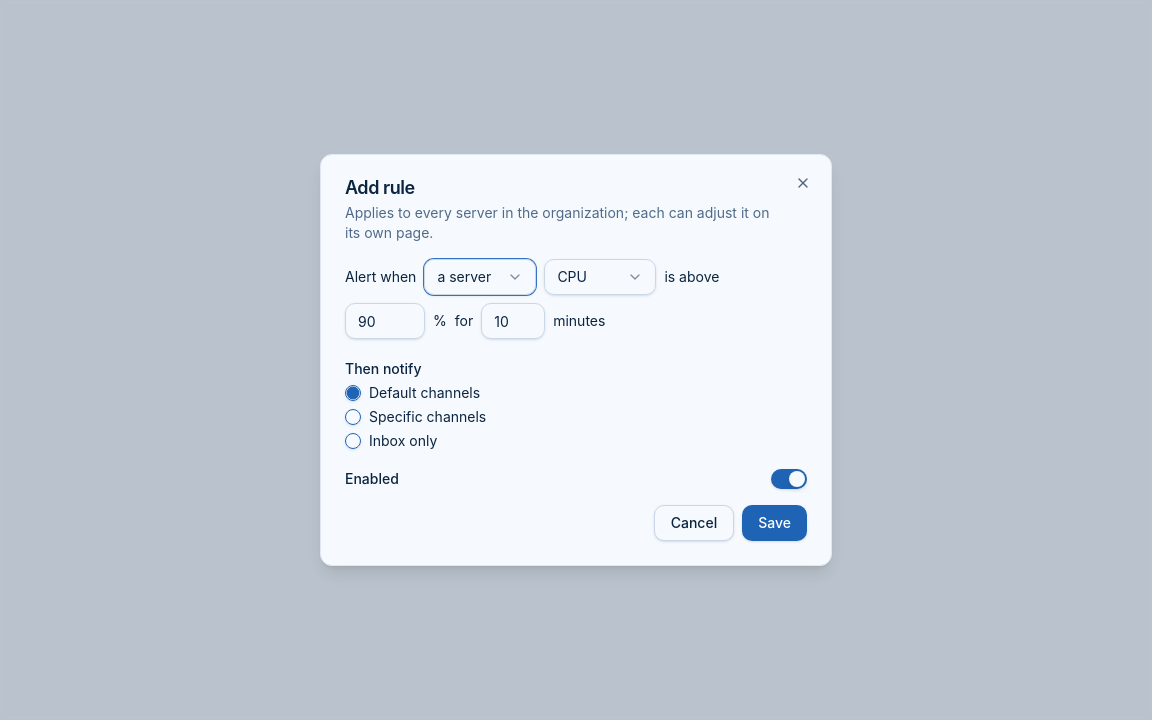
RuleDialog › has no threshold for down rules and checks the duration
Click the dropdown named "Metric" at (600, 277), box [544,259,656,295]
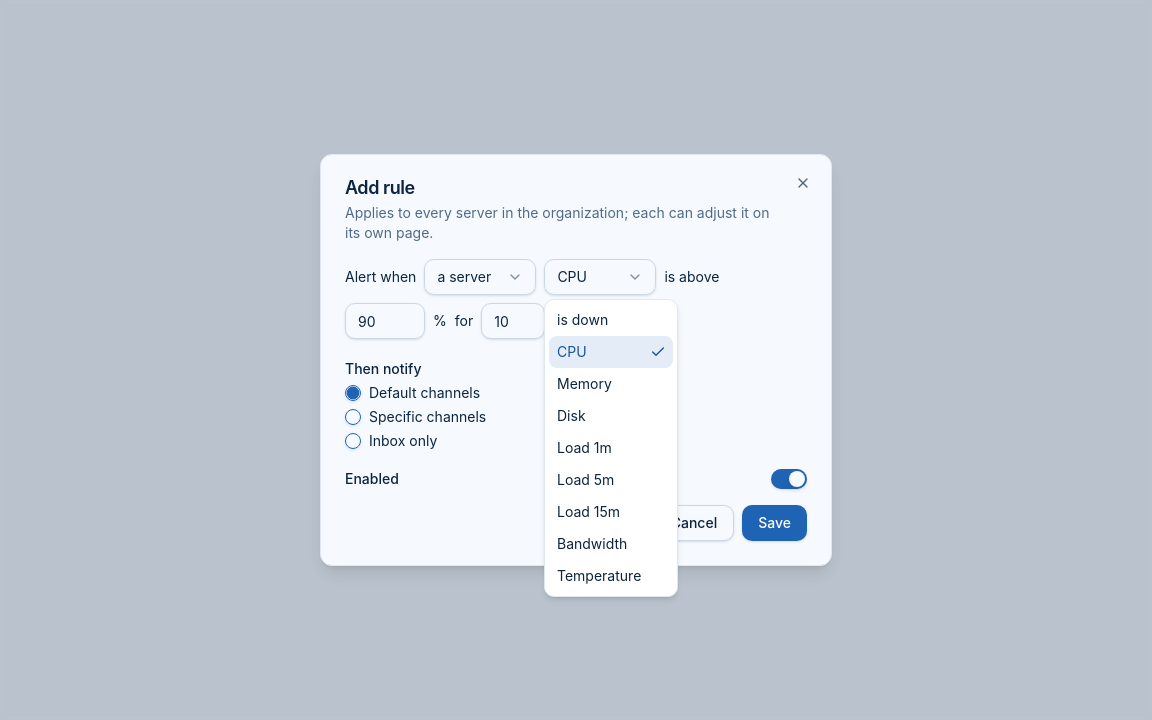
Click the option "is down" at (583, 320), box [557,311,608,328]
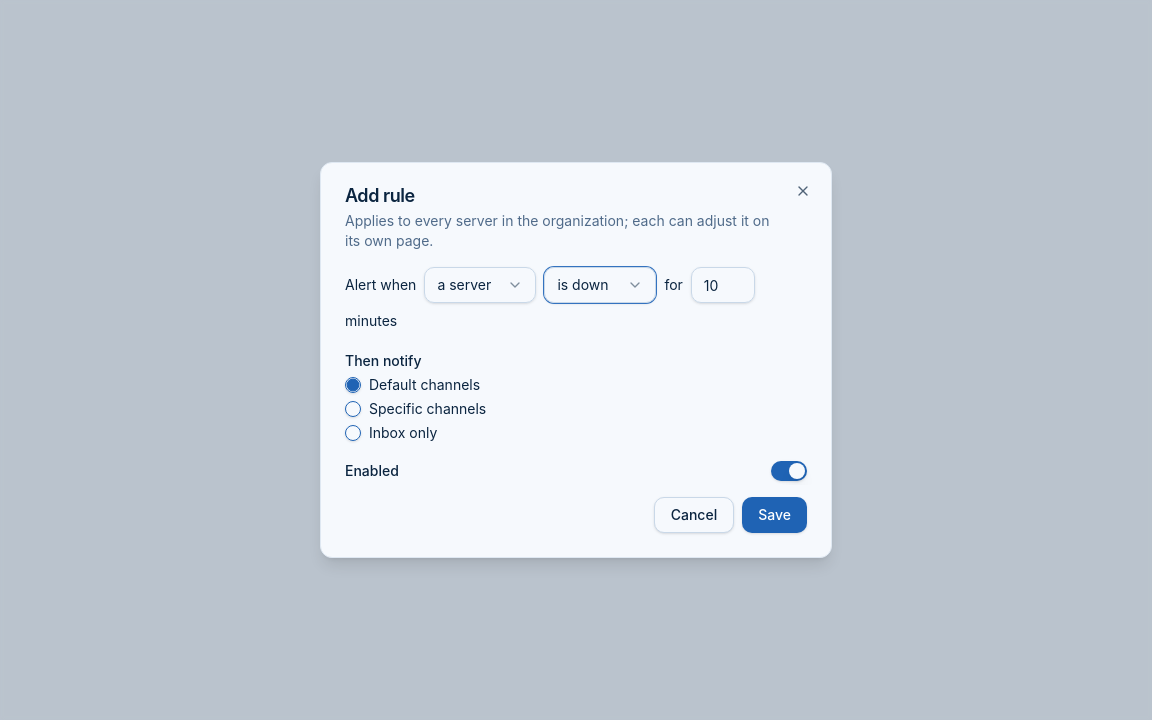
Now the text labelled "above" is gone
Replace the text in the number field named "For (minutes)" with "90" at (723, 285), box [691,267,755,303]
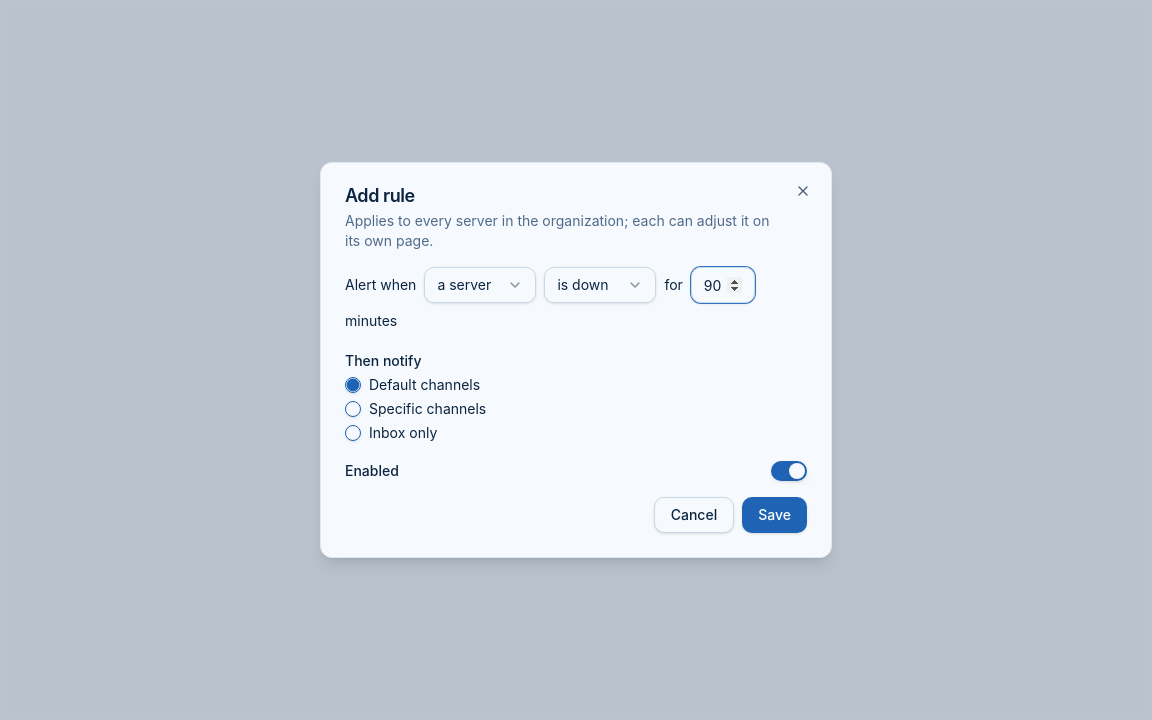
Click the button "Save" at (775, 515), box [742,497,807,533]
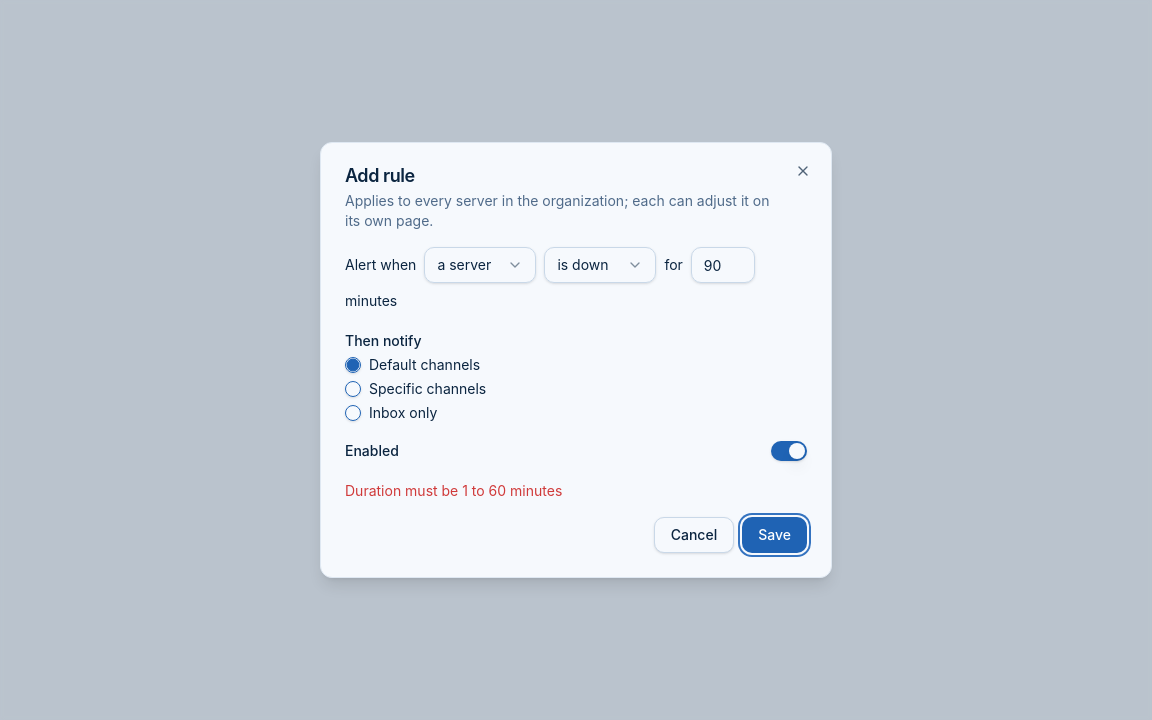
Now the message shows "1 to 60 minutes", box [345,482,562,499]
